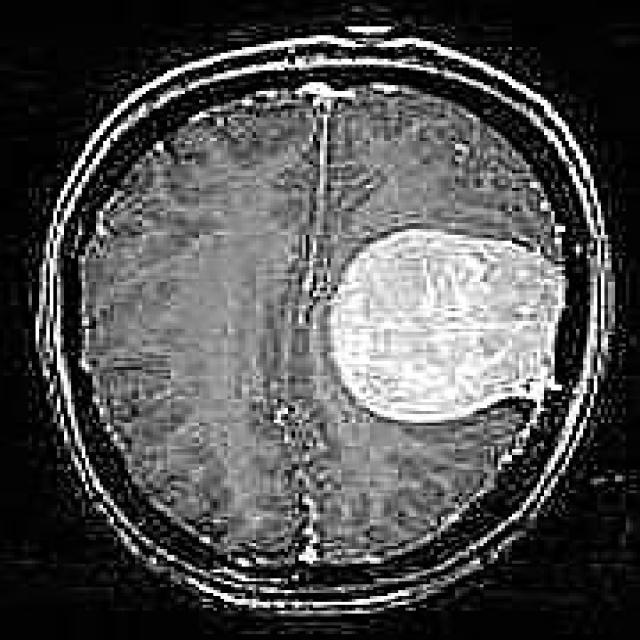Tumor-Cell: (330, 202, 613, 428)
